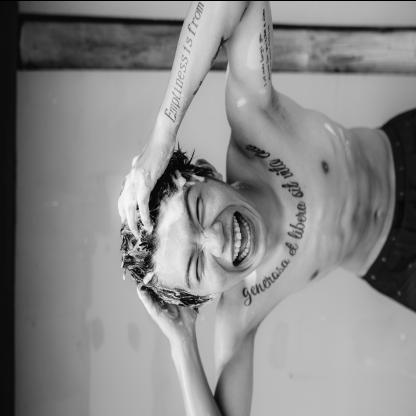Eye: (195, 193, 205, 228), (195, 251, 205, 282)
Mouth: (230, 209, 257, 266)
Nose: (199, 221, 225, 257)
